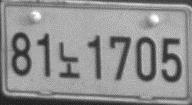0: (135, 35, 157, 82)
1: (86, 33, 102, 81), (36, 32, 52, 78)
5: (160, 35, 183, 84)
7: (108, 35, 132, 81)
8: (9, 31, 32, 77)
노: (57, 41, 81, 79)
